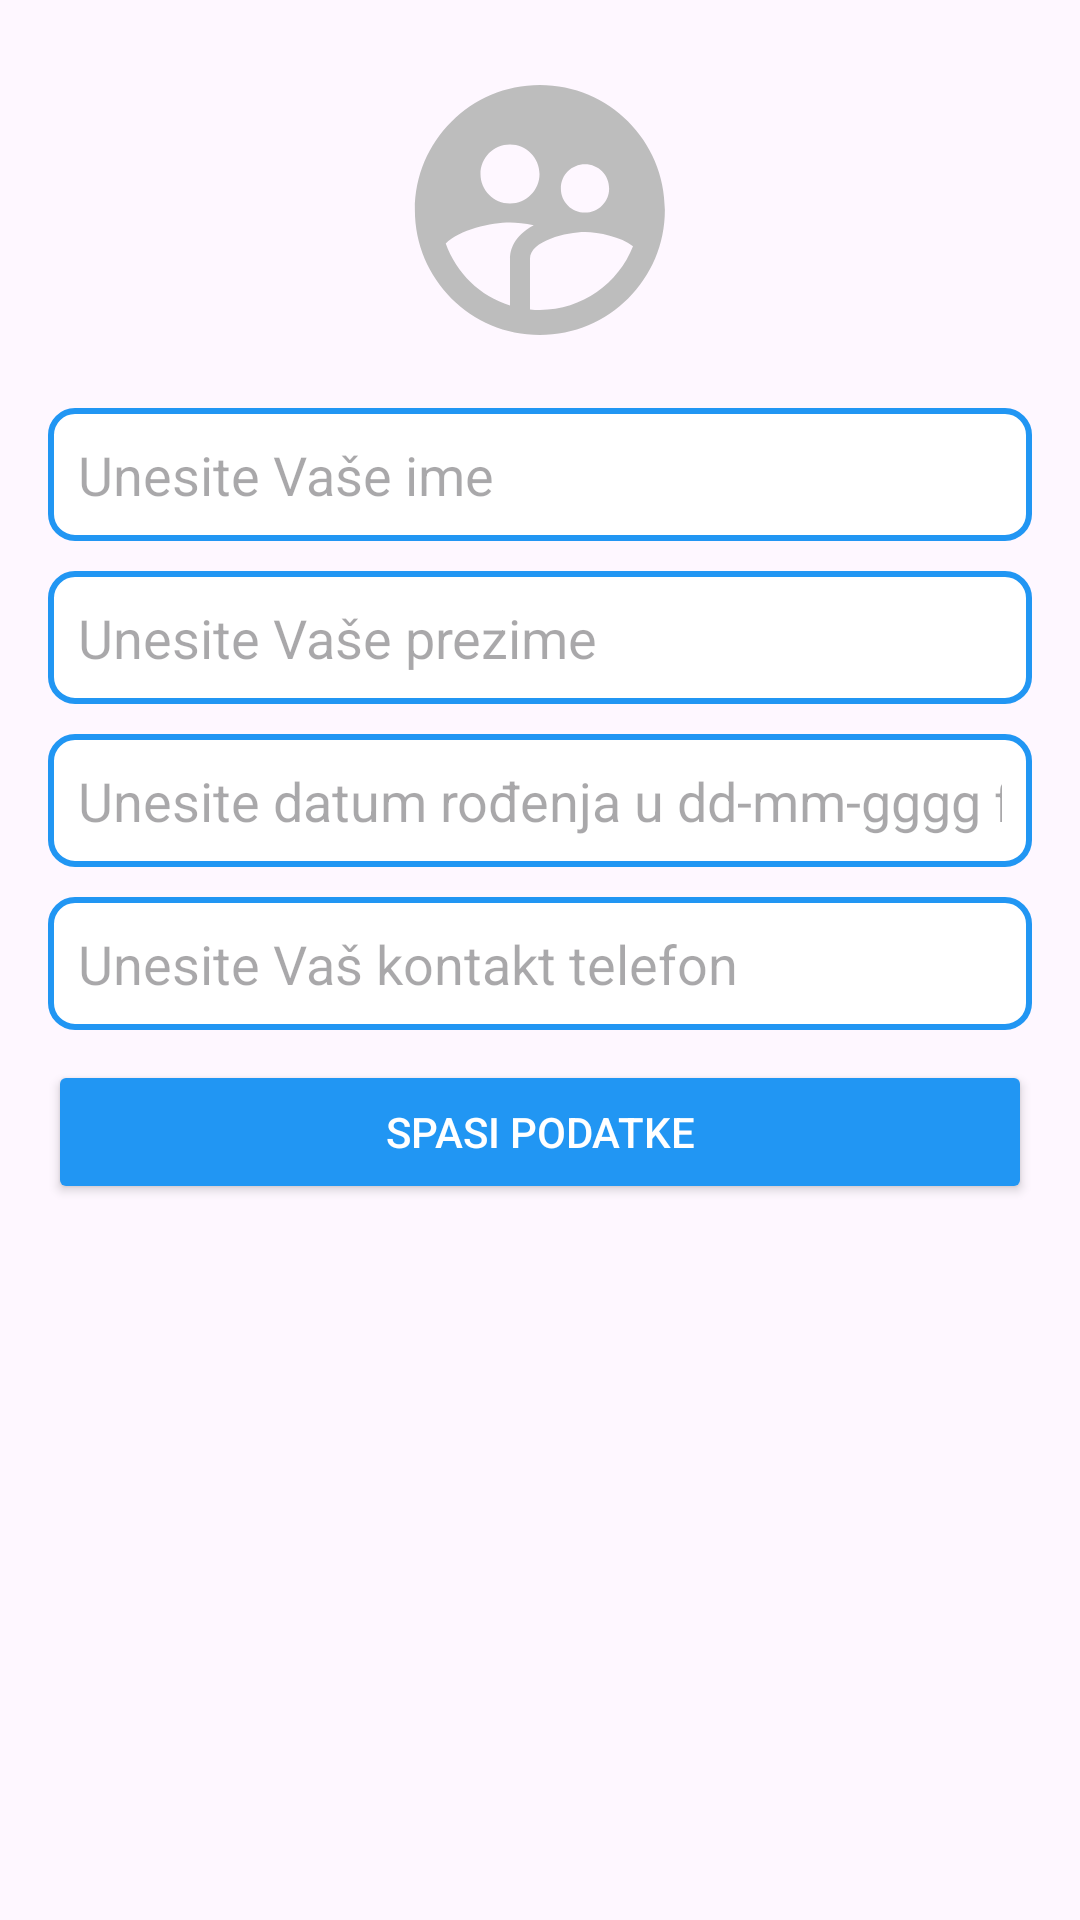

Screen size 1080w x 1920h. Icon name, then its center in pixels as [x,y]:
Profilna slika: [540,210]
